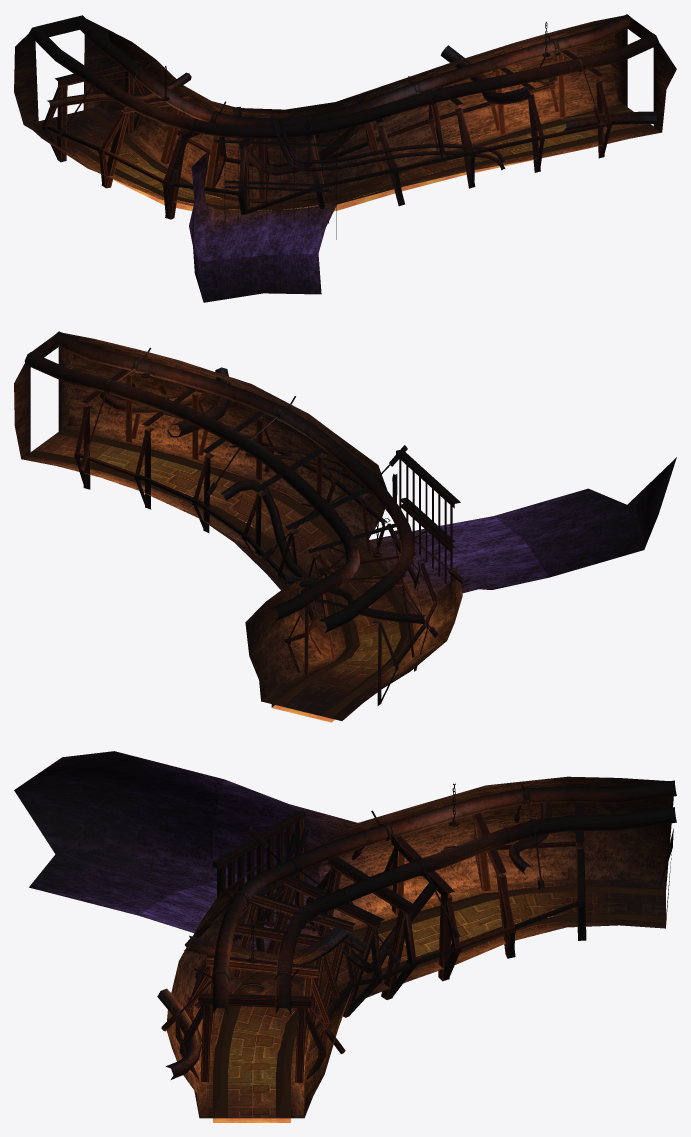
Rendered from 07Cave.gltf.
The picture shows the model from 3 angles, top to bottom: view 1: azimuth 30°, elevation 25°; view 2: azimuth 150°, elevation 25°; view 3: azimuth 270°, elevation 25°; orthographic projection. The views are drawn at different scales.
Visible parts, largest first — view 1: stg030_o09_Mesh_2, stg030_o09_Mesh_1, stg030_o09_Mesh_4, stg030_o09_Mesh_6, stg030_g09_Mesh_0, stg030_a09_Mesh_0, stg030_o09_Mesh_5, stg030_steelflow_09_Mesh_0, stg030_p09_Mesh_1; view 2: stg030_o09_Mesh_2, stg030_o09_Mesh_1, stg030_o09_Mesh_4, stg030_o09_Mesh_6, stg030_g09_Mesh_0, stg030_a09_Mesh_0, stg030_p09_Mesh_1; view 3: stg030_o09_Mesh_2, stg030_o09_Mesh_4, stg030_o09_Mesh_1, stg030_o09_Mesh_6, stg030_g09_Mesh_0, stg030_a09_Mesh_0, stg030_p09_Mesh_1.
Boxes of the visible parts, x1,y1,x2,y2 form: stg030_o09_Mesh_2: (14,15,676,302); stg030_o09_Mesh_1: (29,14,658,175); stg030_o09_Mesh_4: (42,35,612,239); stg030_o09_Mesh_6: (25,102,660,212); stg030_g09_Mesh_0: (33,105,656,210); stg030_a09_Mesh_0: (24,101,661,212); stg030_o09_Mesh_5: (197,15,626,115); stg030_steelflow_09_Mesh_0: (113,157,543,211); stg030_p09_Mesh_1: (75,137,532,210); stg030_o09_Mesh_2: (14,332,676,700); stg030_o09_Mesh_1: (24,331,425,633); stg030_o09_Mesh_4: (74,347,464,707); stg030_o09_Mesh_6: (23,426,423,720); stg030_g09_Mesh_0: (27,429,414,718); stg030_a09_Mesh_0: (21,425,425,720); stg030_p09_Mesh_1: (154,458,414,681); stg030_o09_Mesh_2: (14,751,673,1117); stg030_o09_Mesh_4: (161,785,586,1082); stg030_o09_Mesh_1: (157,780,676,1079); stg030_o09_Mesh_6: (201,880,665,1118); stg030_g09_Mesh_0: (213,885,665,1118); stg030_a09_Mesh_0: (199,879,665,1118); stg030_p09_Mesh_1: (215,885,566,1052).
Size of the model in its own units: 68.21 by 22.32 by 63.13.
11 materials, 10 textured.
